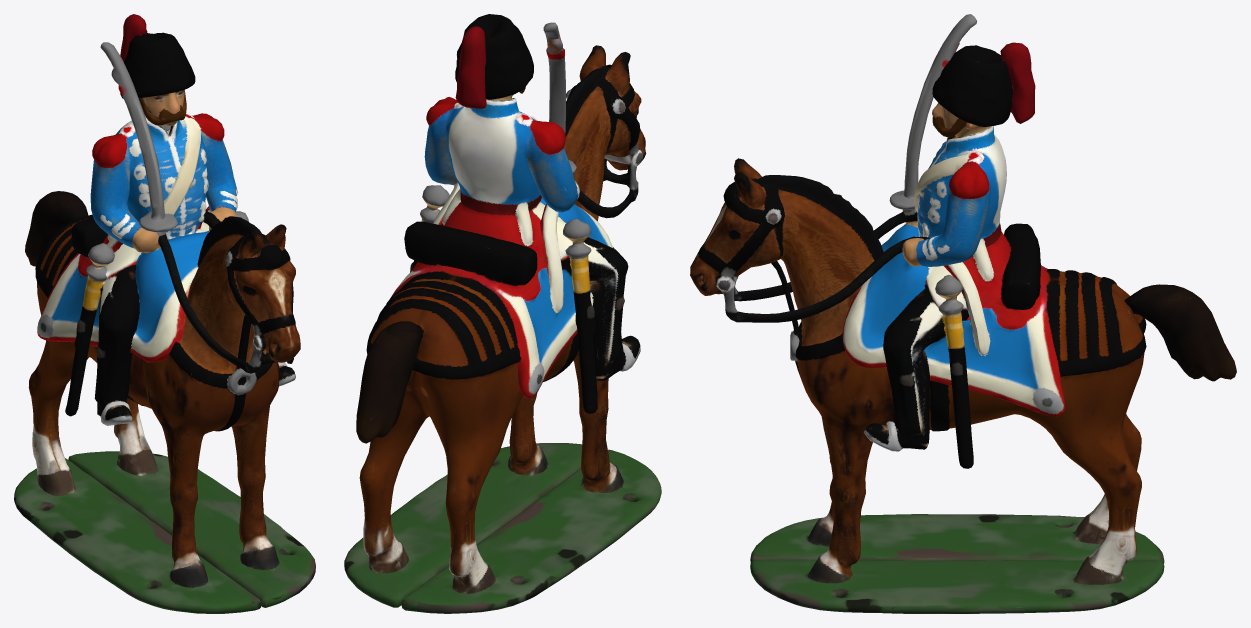
The model's file is cavalry.glb.
3 renders of one model, left to right at view 1: azimuth 30°, elevation 25°; view 2: azimuth 150°, elevation 25°; view 3: azimuth 270°, elevation 25°, orthographic. The views are drawn at different scales.
Visible parts, largest first — view 1: world; view 2: world; view 3: world.
Part boxes in pixels (x1,y1,x2,y2): world: (14,14,315,613); world: (344,14,661,613); world: (690,14,1236,613).
Size of the model in its own units: 0.39 by 1 by 0.9395.
Materials: 1 (1 with a texture image).
